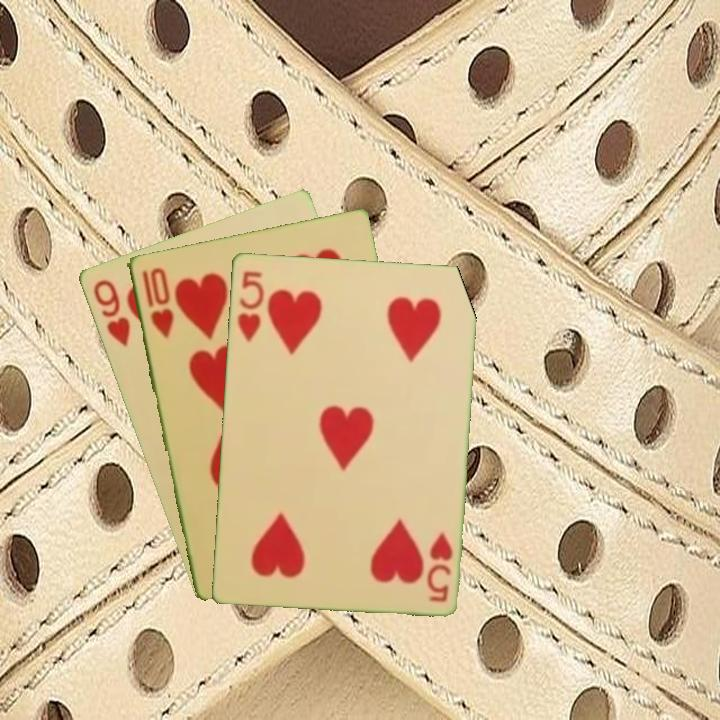10h: (137, 263, 176, 341)
5h: (233, 267, 267, 345), (423, 528, 455, 604)
9h: (89, 275, 133, 349)
